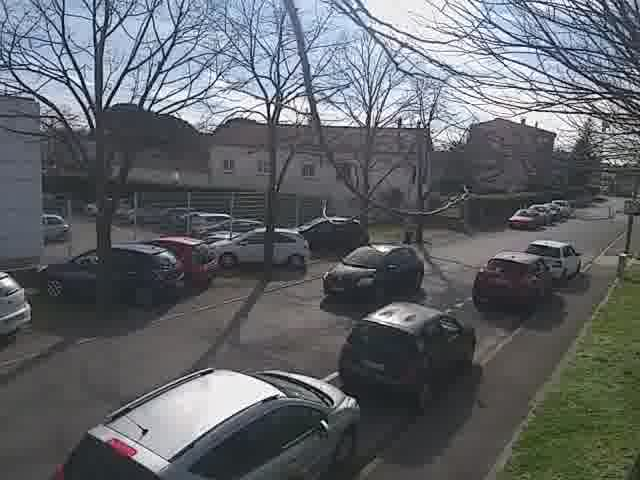persona: (397, 208, 418, 245)
